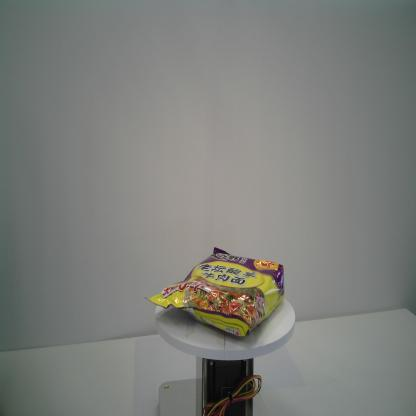Instant Noodles: (144, 244, 286, 338)
